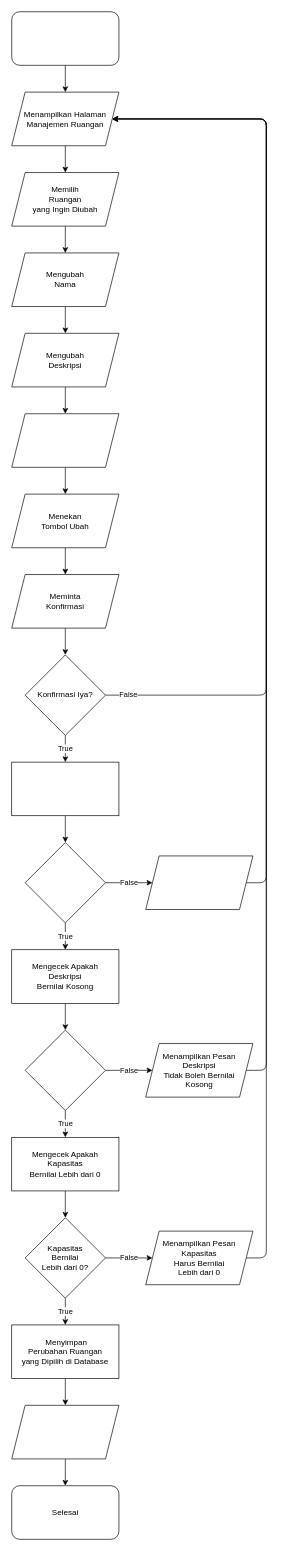
Some shapes in this 283 by 1551 pixel diagram are drawn without their labels. Here are the shapes that lost their labels. From the top down, the centre of each, then its label:
At [65,38]: "Mulai".
At [65,440]: "Mengubah Kapasitas".
At [65,788]: "Mengecek Apakah Nama Bernilai Kosong".
At [65,882]: "Nama Tidak Bernilai Kosong?".
At [199,882]: "Menampilkan Pesan Nama Tidak Boleh Bernilai Kosong".
At [65,1070]: "Deskripsi Tidak Bernilai Kosong?".
At [65,1432]: "Menampilkan Pesan Ruangan Berhasil Diubah".
